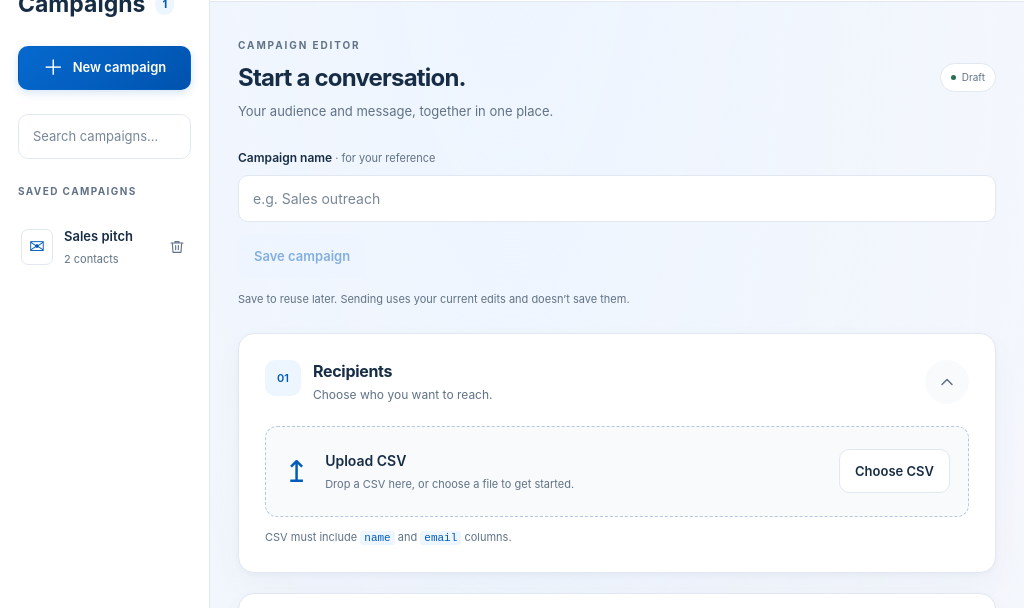
Scenario: save completes and editor stays available while the consented AI review is pending
Click the button "✉ Sales pitch 2 contacts". click: (85, 247)
box: [11, 212, 159, 282]
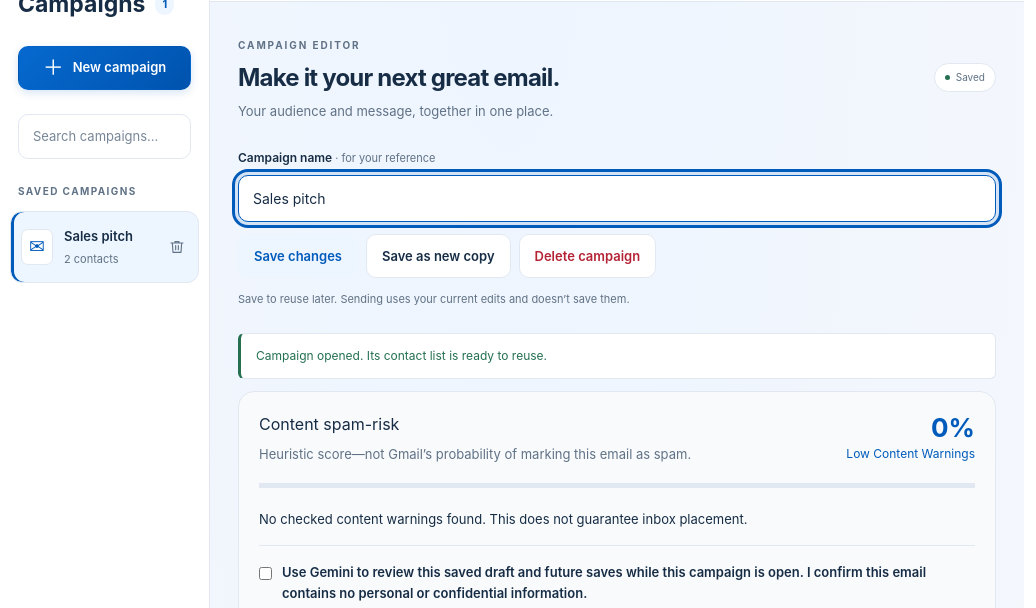
Click the checkbox labelled "Use Gemini to review this saved draft". click: (266, 574)
box: [259, 568, 272, 580]
(page scrolled)
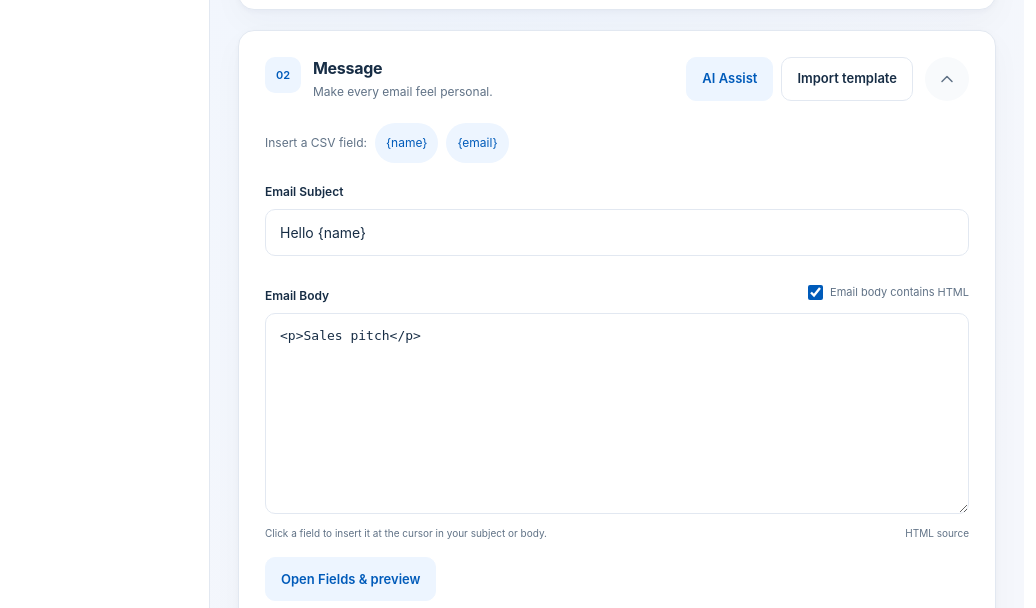
Replace the text in the field labelled "Email Subject" with "An updated subject". click: (617, 233)
box: [265, 209, 969, 256]
(page scrolled)
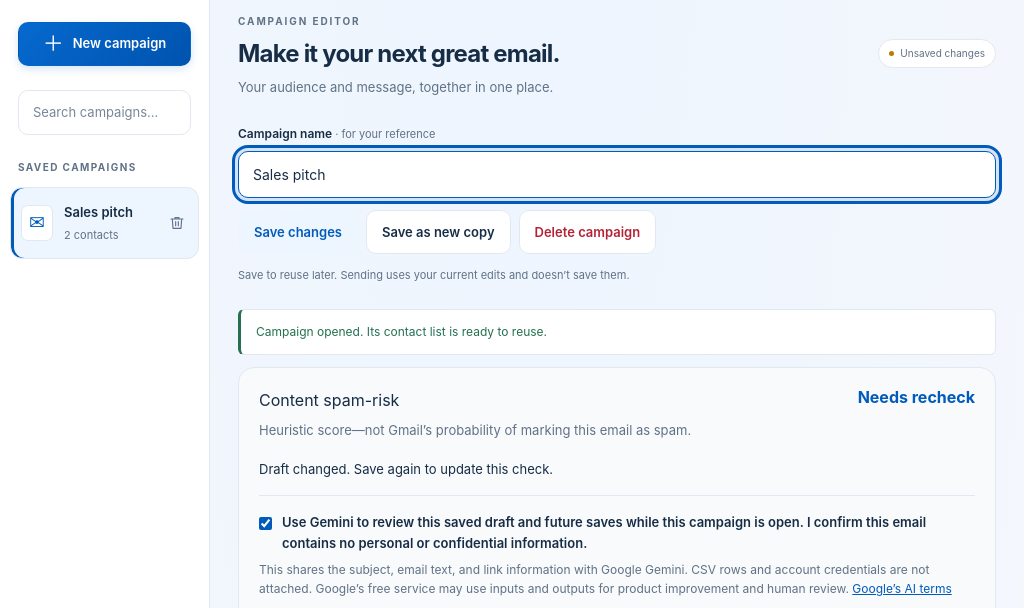
Click the button "Save changes". click: (298, 232)
box: [238, 210, 358, 254]
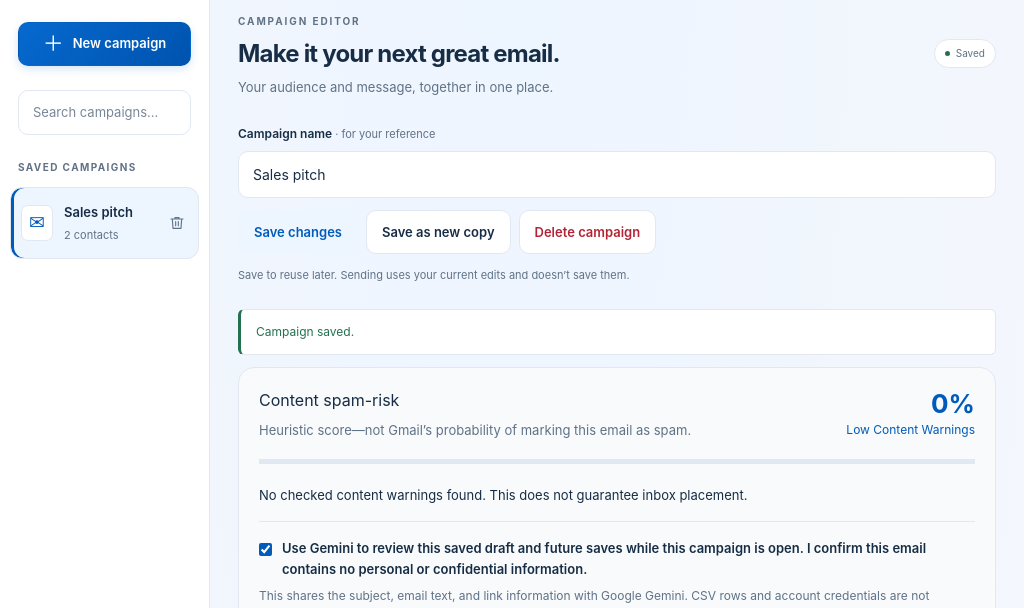
Expected: the button "Save changes" is enabled, [238, 210, 358, 254]
Expected: the text "Campaign saved." is shown, [238, 309, 996, 355]
